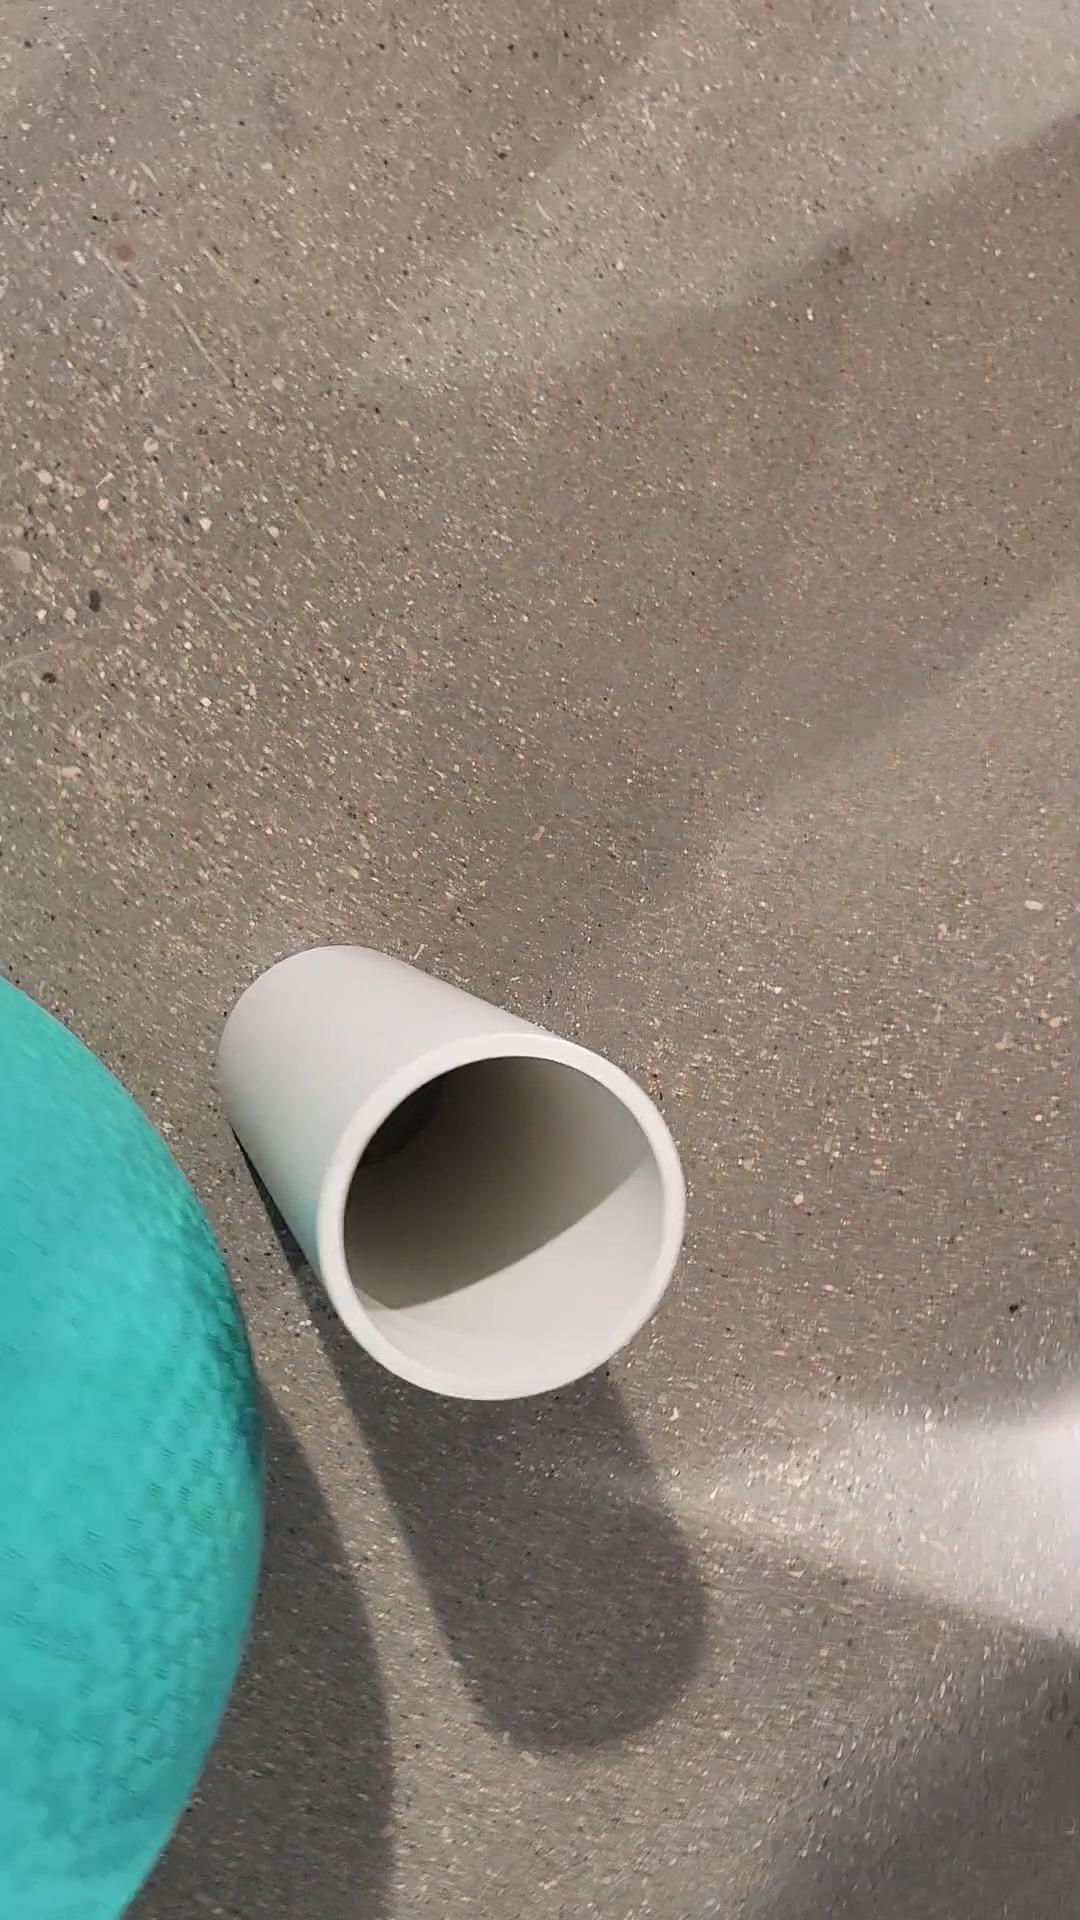algae: (0, 965, 257, 1920)
coral: (228, 949, 683, 1400)
